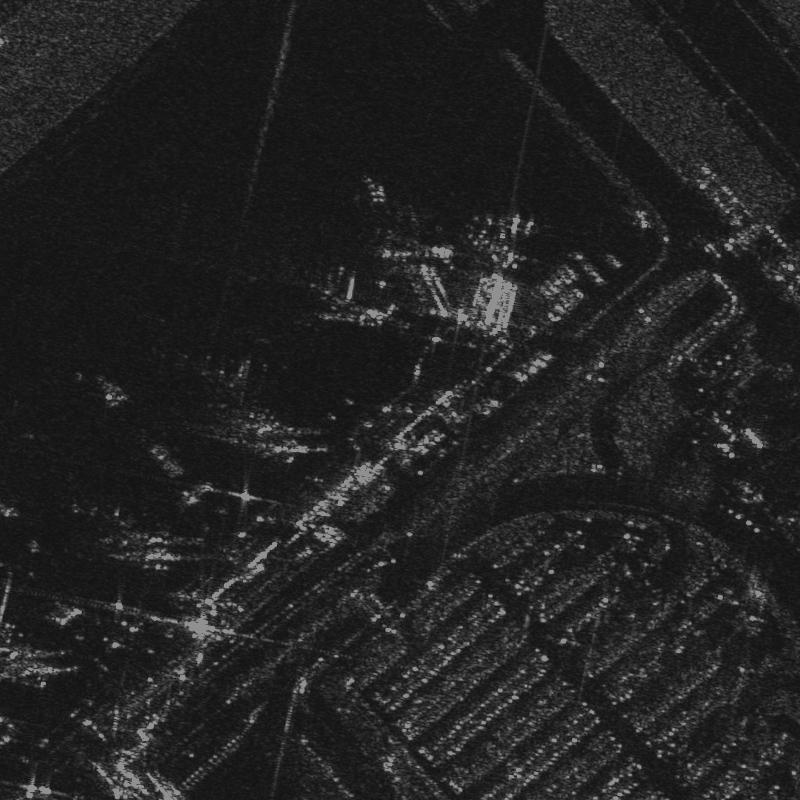Boeing737: (376, 201, 457, 270), (184, 355, 254, 420), (308, 262, 361, 331)
Boeing787: (469, 203, 554, 272)
